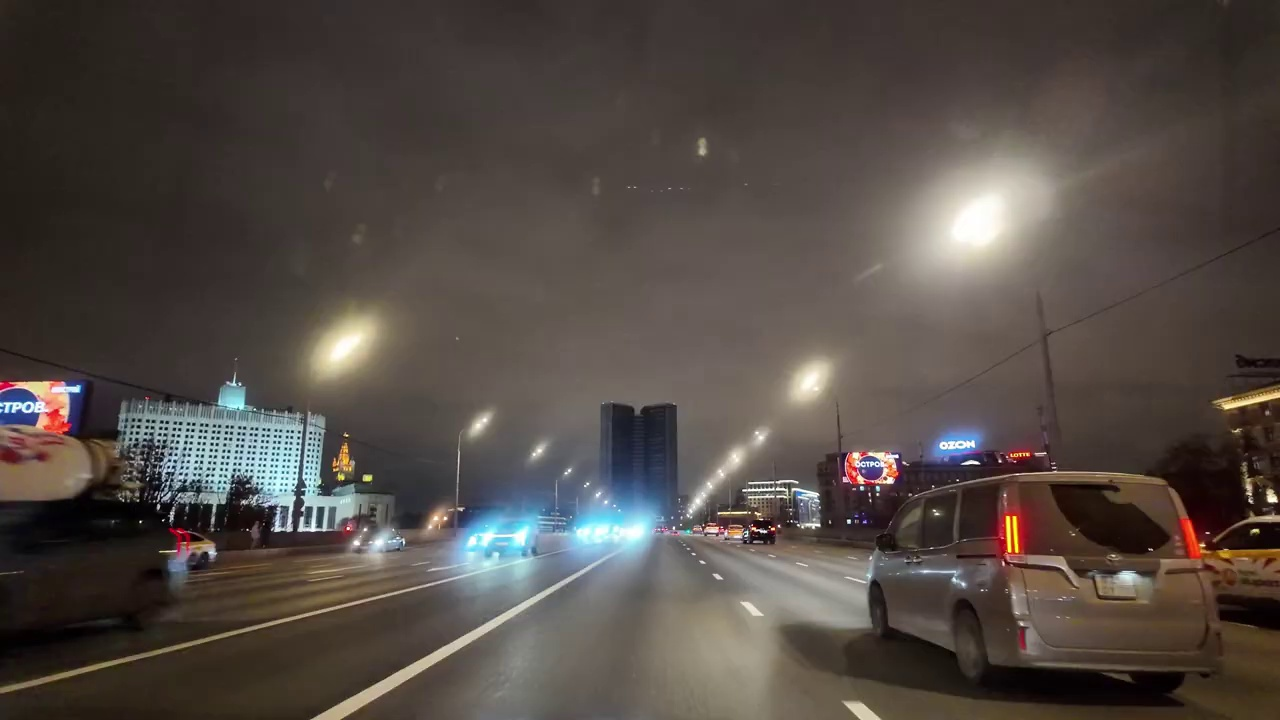acesa: (947, 188, 1015, 254), (313, 316, 378, 382), (786, 359, 831, 408), (463, 408, 496, 445)
